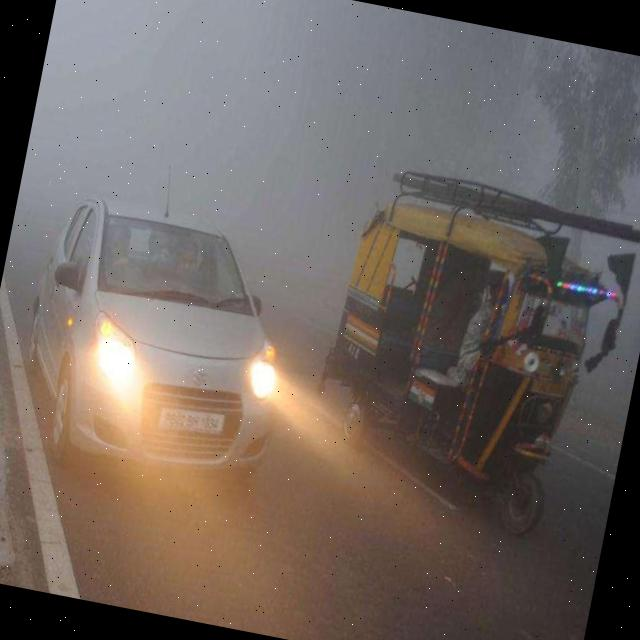car: (299, 162, 640, 542), (8, 193, 310, 507)
